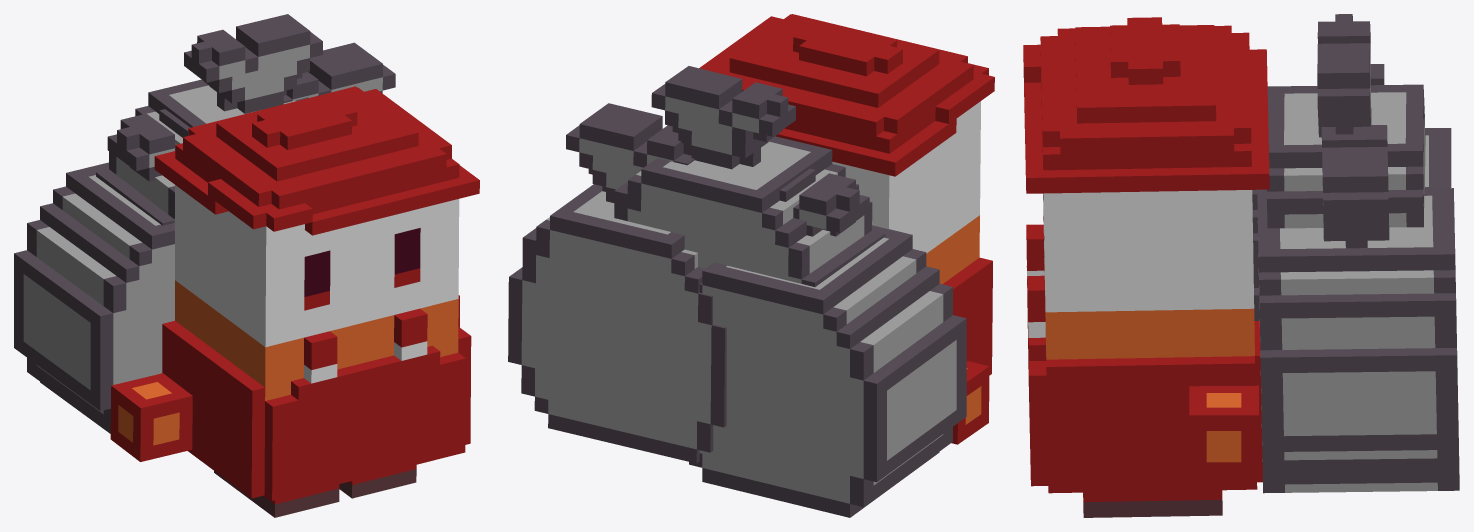
Rendered from p4_trash_hold_3.gltf.
The picture shows the model from 3 angles, left to right: view 1: azimuth 30°, elevation 25°; view 2: azimuth 150°, elevation 25°; view 3: azimuth 270°, elevation 25°; orthographic projection. The views are drawn at different scales.
Parts seen in each view (by area): view 1: Object_0.001, Object_0.005, Object_0.002, Object_0, Object_0.003; view 2: Object_0.005, Object_0.003, Object_0.001, Object_0.002, Object_0; view 3: Object_0.001, Object_0.003, Object_0.002, Object_0.004, Object_0.005.
Boxes of the visible parts, <box> form: Object_0.001: <box>154,86,479,517</box>; Object_0.005: <box>14,109,190,433</box>; Object_0.002: <box>96,14,322,225</box>; Object_0: <box>110,373,192,461</box>; Object_0.003: <box>283,42,395,103</box>; Object_0.005: <box>689,168,966,517</box>; Object_0.003: <box>508,103,726,463</box>; Object_0.001: <box>699,14,994,375</box>; Object_0.002: <box>614,66,885,286</box>; Object_0: <box>951,361,989,444</box>; Object_0.001: <box>1023,17,1269,517</box>; Object_0.003: <box>1257,125,1459,493</box>; Object_0.002: <box>1267,14,1425,228</box>; Object_0.004: <box>1189,385,1258,478</box>; Object_0.005: <box>1252,64,1451,320</box>.
Bounding box in the file's own units: 2.73 × 2.81 × 2.51.
6 materials, 6 textured.
